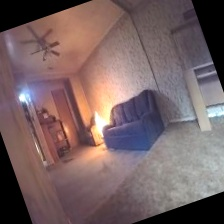fire: (88, 105, 112, 140)
